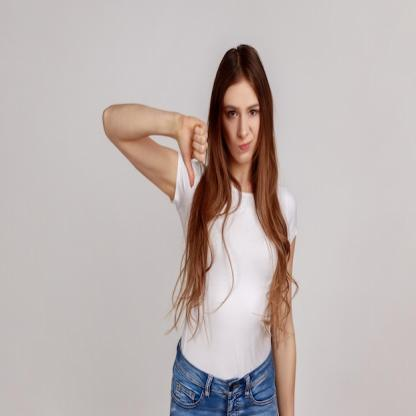thumb_down: (177, 109, 210, 190)
